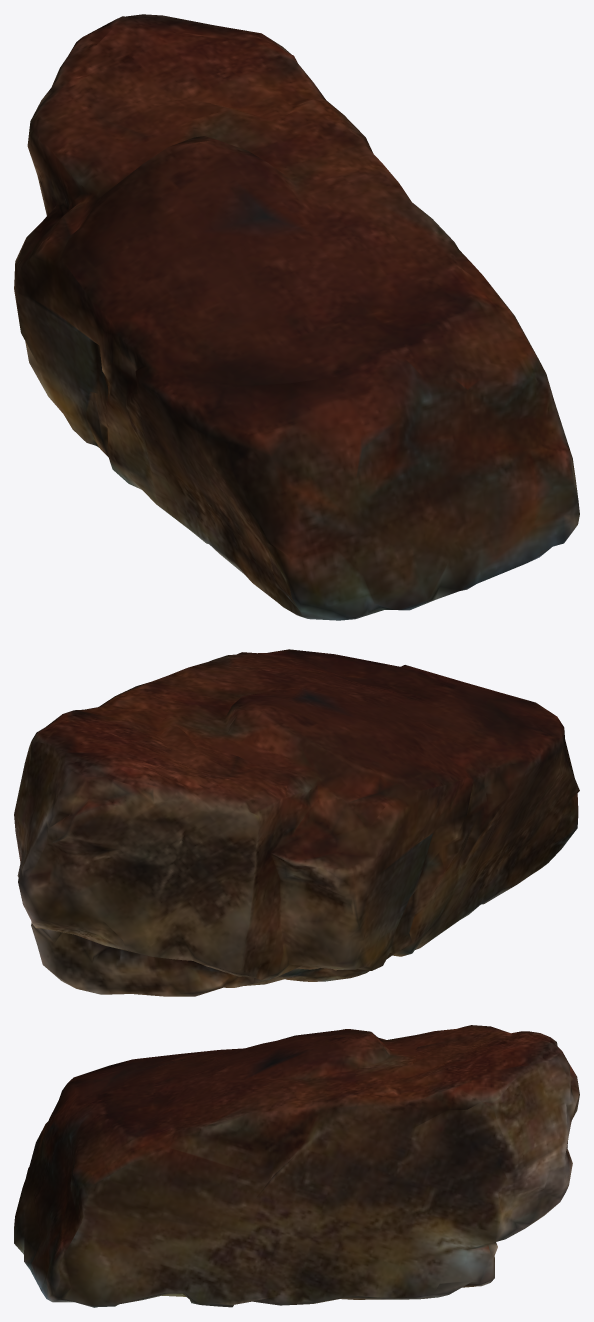
The model's file is rock-a.glb.
3 views of the same model, one above another, from view 1: azimuth 30°, elevation 25°; view 2: azimuth 150°, elevation 25°; view 3: azimuth 270°, elevation 25° (orthographic). The views are drawn at different scales.
Visible parts, largest first — view 1: rock_07; view 2: rock_07; view 3: rock_07.
Part boxes in pixels (bbox=[...]): rock_07: bbox=[14, 14, 579, 620]; rock_07: bbox=[14, 649, 579, 996]; rock_07: bbox=[14, 1025, 579, 1307].
Size of the model in its own units: 0.1681 by 0.1434 by 0.3198.
Materials: 1 (1 with a texture image).
